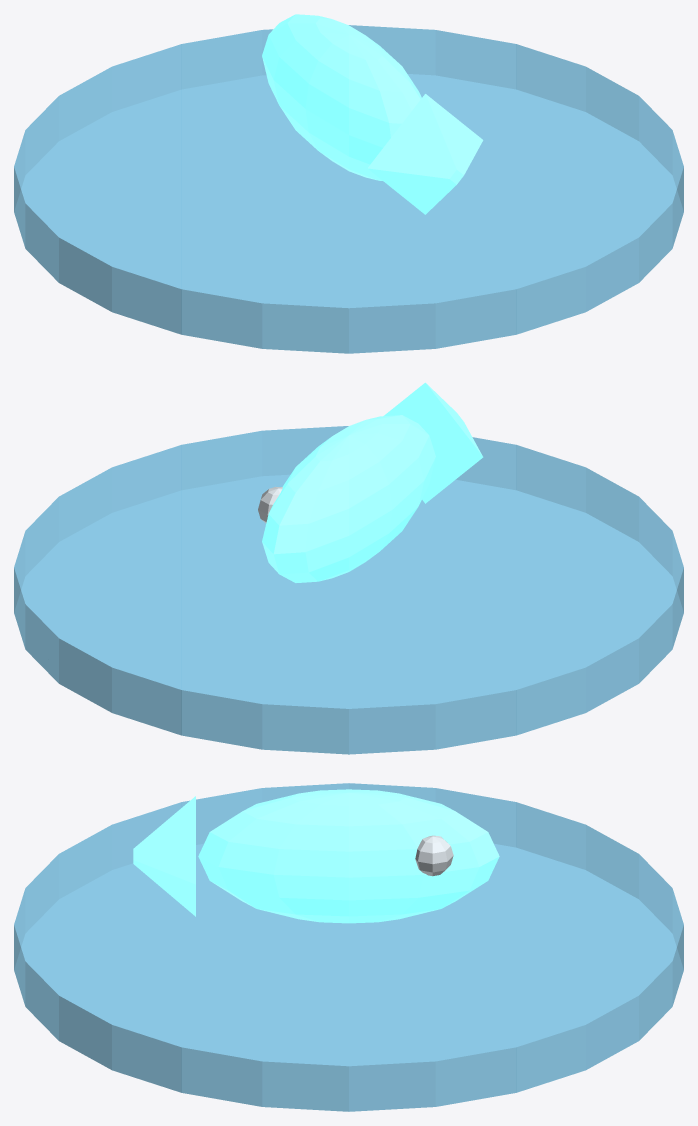
File: prop_glacius_frost_fish.fbx
3 renders of one model, top to bottom at view 1: azimuth 30°, elevation 25°; view 2: azimuth 150°, elevation 25°; view 3: azimuth 270°, elevation 25°, orthographic.
Parts seen in each view (by area): view 1: G_FrostFish_Pool, G_FrostFish_Body, G_FrostFish_Tail; view 2: G_FrostFish_Pool, G_FrostFish_Body, G_FrostFish_Tail; view 3: G_FrostFish_Pool, G_FrostFish_Body, G_FrostFish_Tail, G_FrostFish_Eye.
Part boxes in pixels (box(x1,y1,x2,y2)): G_FrostFish_Pool: box(14, 25, 683, 353); G_FrostFish_Body: box(262, 14, 421, 180); G_FrostFish_Tail: box(367, 94, 483, 214); G_FrostFish_Pool: box(14, 426, 683, 754); G_FrostFish_Body: box(262, 415, 435, 582); G_FrostFish_Tail: box(383, 382, 483, 503); G_FrostFish_Pool: box(14, 783, 683, 1111); G_FrostFish_Body: box(198, 789, 499, 923); G_FrostFish_Tail: box(133, 796, 195, 916); G_FrostFish_Eye: box(415, 835, 453, 876).
Bounding box in the file's own units: 0.8 × 0.234 × 0.8.
